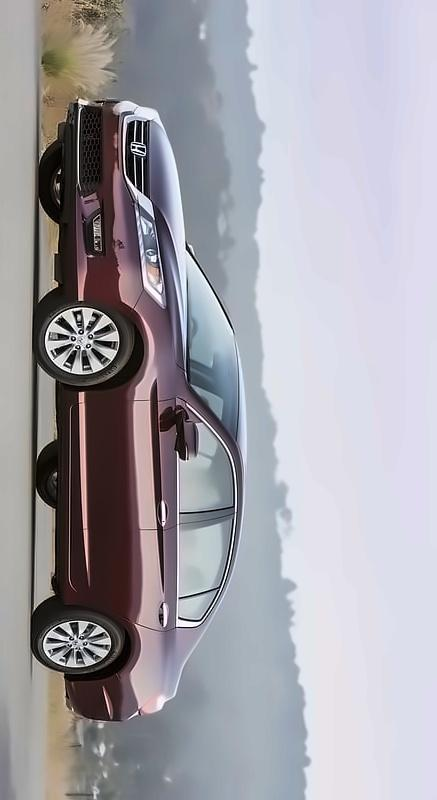Car hood: (148, 110, 193, 370)
Fender - -F-L-: (50, 291, 200, 405)
Fender - -R-L-: (61, 588, 181, 701)
Front bumper: (56, 91, 134, 322)
Headlight - -L-: (124, 175, 172, 313)
Headlight - -R-: (124, 98, 167, 125)
Passenger-s door - -F-L-: (64, 393, 243, 530)
Passenger-s door - -R-L-: (63, 530, 239, 633)
Rear bumper: (53, 663, 139, 733)
Side bumper - -L-: (49, 378, 81, 617)
Side mirror - -L-: (161, 404, 206, 464)
